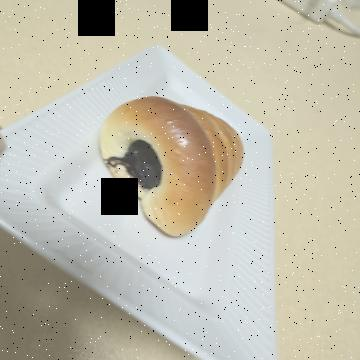cream horn: (83, 102, 263, 274)
